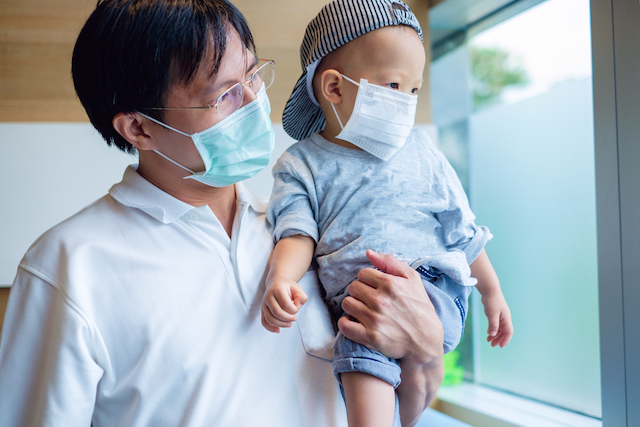surgical: (170, 86, 285, 185), (333, 72, 424, 162)
